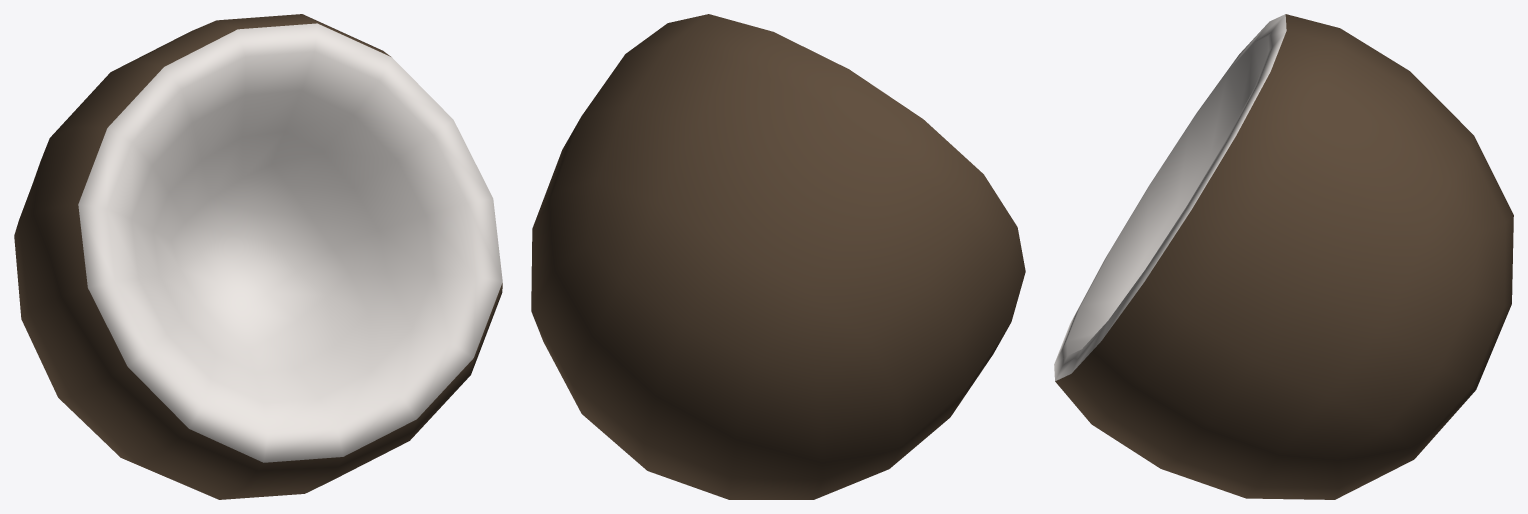
Rendered from coconut fixed.fbx.
The picture shows the model from 3 angles, left to right: view 1: azimuth 30°, elevation 25°; view 2: azimuth 150°, elevation 25°; view 3: azimuth 270°, elevation 25°; orthographic projection.
Parts seen in each view (by area): view 1: pCube1; view 2: pCube1; view 3: pCube1.
Part boxes in pixels (x1=…): pCube1: x1=14, y1=14, x2=502, y2=499; pCube1: x1=531, y1=14, x2=1025, y2=499; pCube1: x1=1054, y1=14, x2=1513, y2=499.
Bounding box in the file's own units: 8.36 × 8.49 × 7.98.
